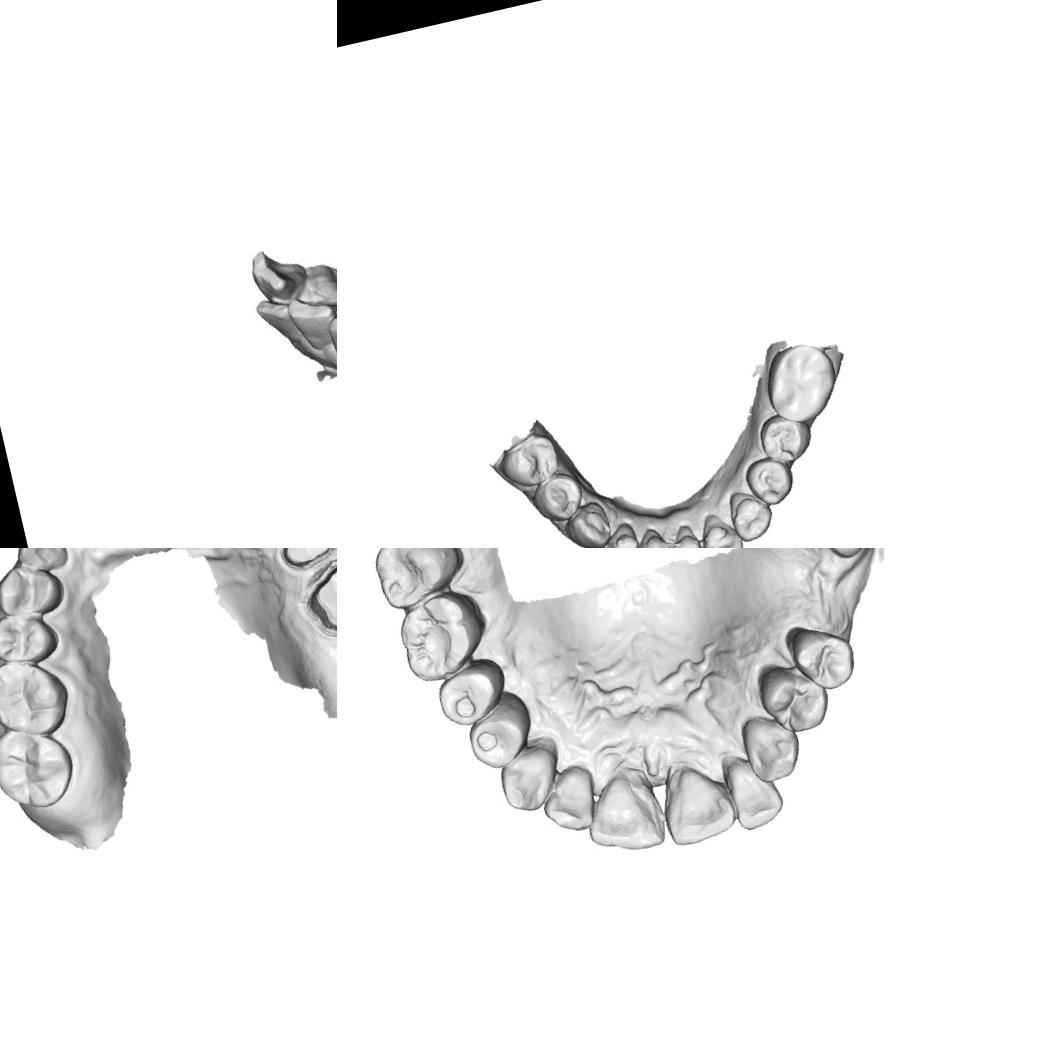canine: (734, 711, 806, 788), (491, 743, 564, 818), (724, 483, 778, 545), (560, 497, 614, 548), (9, 548, 71, 580)
crown: (299, 554, 337, 639), (274, 548, 337, 574)
implant: (820, 548, 879, 563)
incisor: (576, 769, 668, 866), (650, 756, 742, 852), (719, 758, 790, 836), (534, 762, 600, 841), (251, 243, 317, 306), (287, 288, 337, 355), (695, 505, 744, 548), (595, 519, 645, 548), (665, 514, 706, 548), (633, 518, 678, 548)
molar: (390, 588, 498, 688), (0, 716, 82, 817), (0, 649, 78, 746), (365, 548, 472, 615), (762, 342, 842, 424)
premolar: (752, 655, 837, 744), (784, 616, 860, 697), (460, 704, 538, 776), (432, 660, 507, 732), (0, 555, 69, 624), (492, 429, 565, 494), (0, 604, 63, 672), (754, 407, 818, 469), (527, 467, 589, 528), (740, 452, 799, 512)
